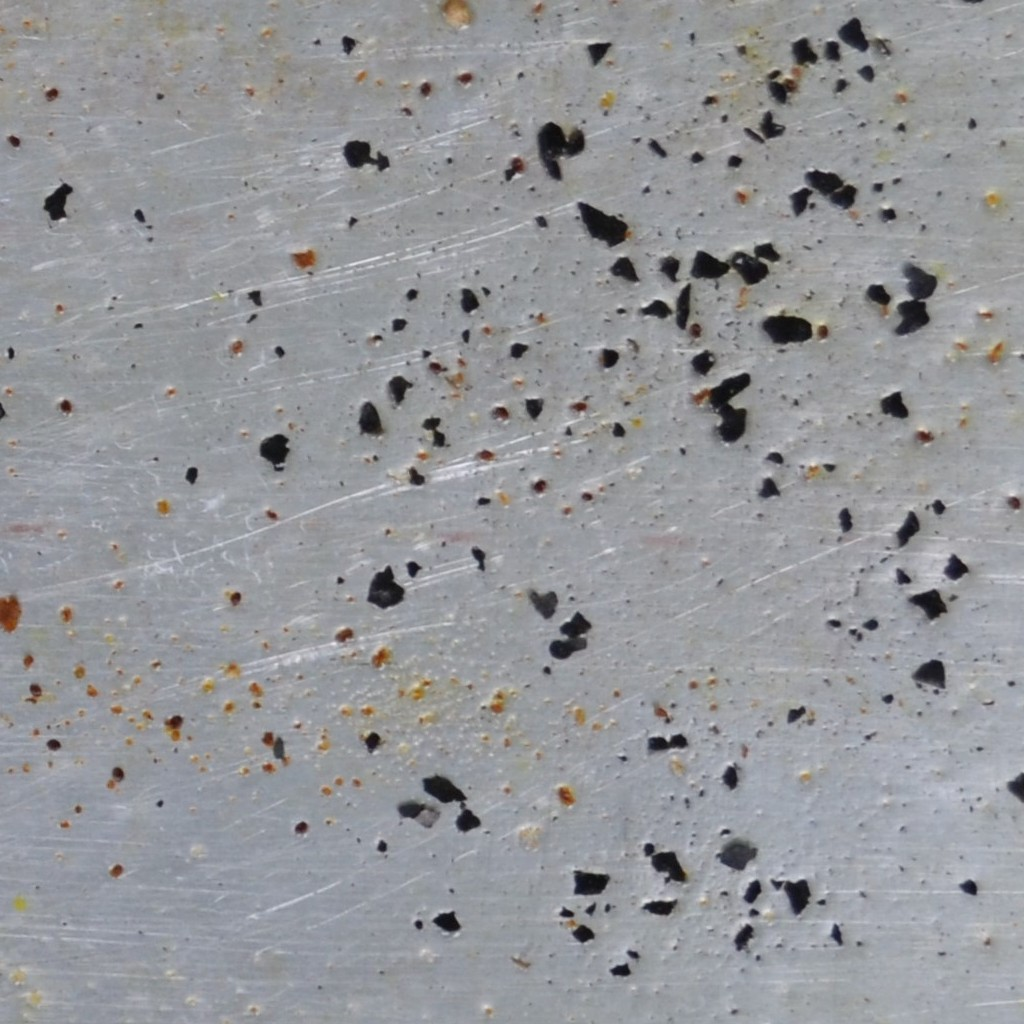varroa: (290, 818, 312, 840), (6, 130, 22, 153), (915, 426, 934, 445), (1004, 493, 1022, 513), (456, 69, 475, 87), (491, 402, 511, 419), (510, 154, 527, 174), (44, 738, 63, 754), (228, 589, 244, 608), (689, 321, 705, 340), (476, 449, 497, 463), (425, 358, 442, 375), (58, 396, 73, 415), (569, 400, 588, 415), (109, 863, 125, 880), (43, 85, 60, 101), (111, 765, 126, 783), (418, 80, 433, 98), (27, 681, 43, 697), (532, 479, 548, 495), (817, 321, 830, 340), (169, 712, 183, 728)
